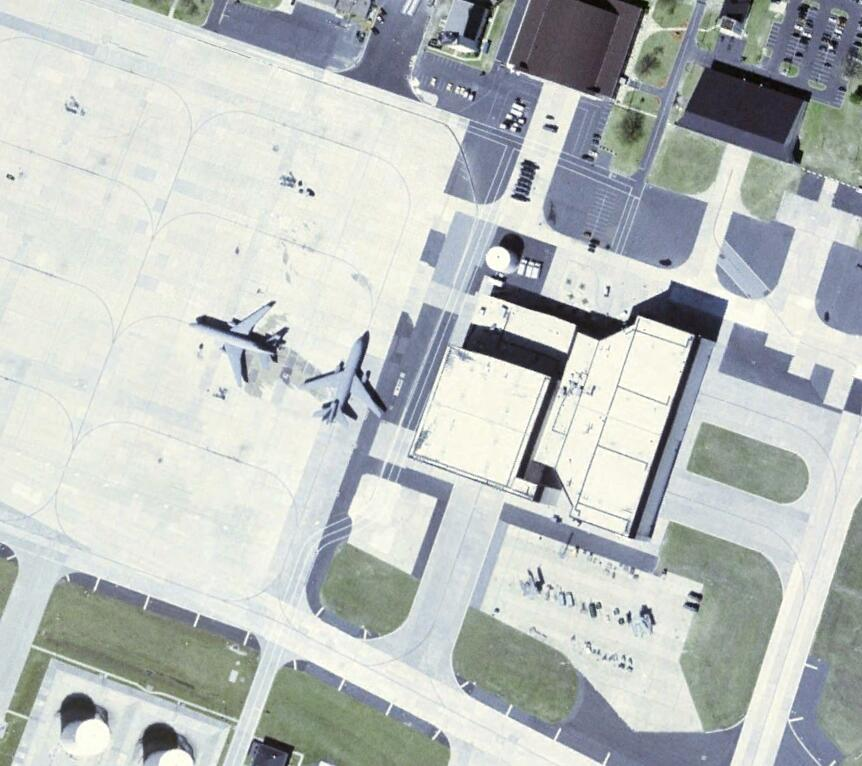A18: (189, 301, 287, 387), (304, 336, 390, 425)
